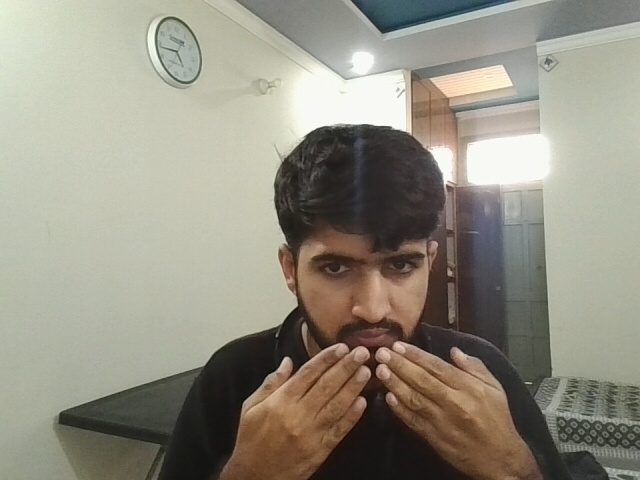Thanks: (227, 343, 547, 478)
